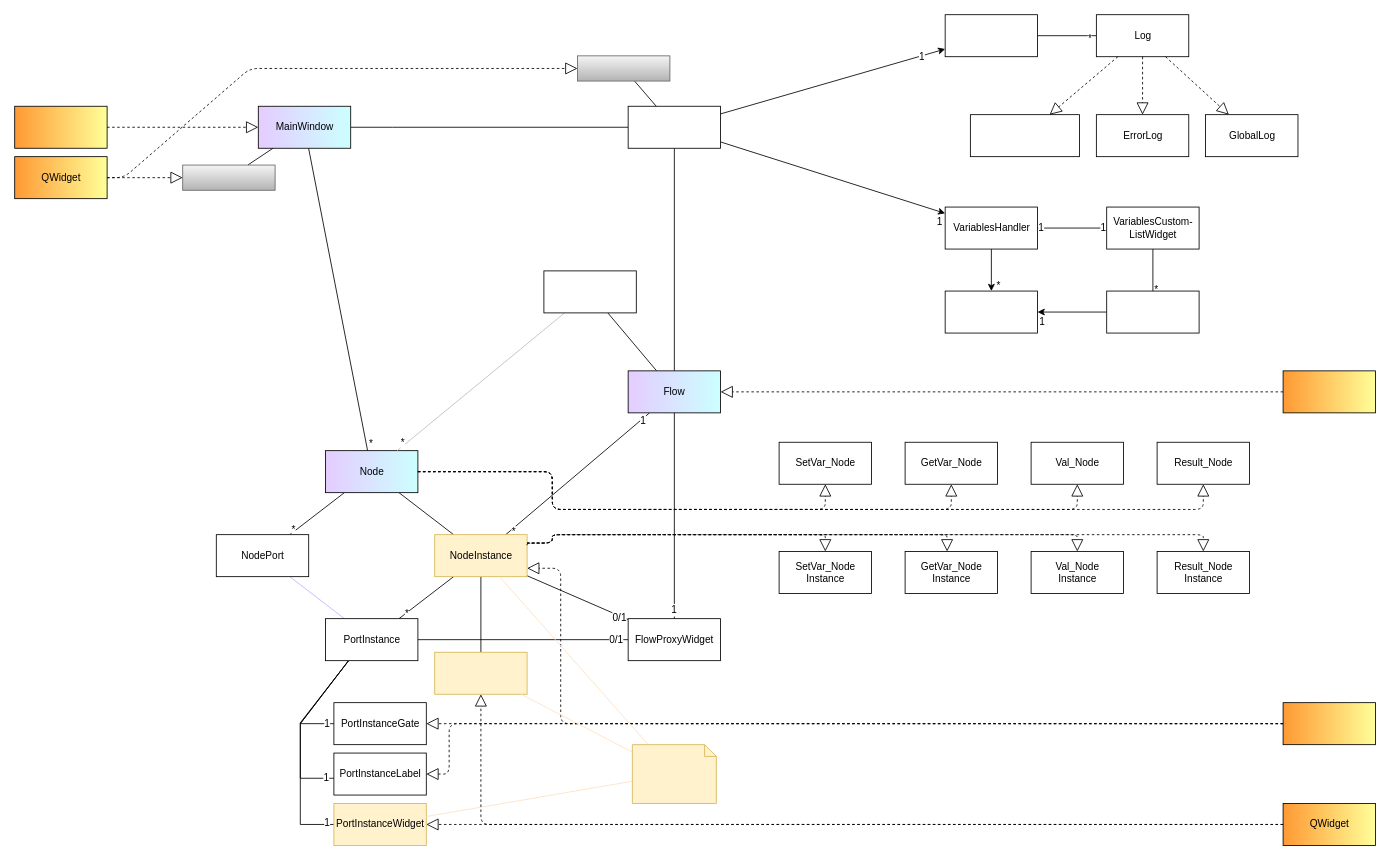
Some shapes in this 1390 by 860 pixel diagram are drawn without their labels. The shapes that lost their labels are listed below. From the top down, each one's box as (x1, y1, x2, y2) in pixels, then its label:
(944, 14, 1038, 57): Logger
(577, 55, 670, 81): W_UI_Script
(14, 105, 107, 148): QMainWindow
(627, 105, 721, 148): Script
(970, 114, 1080, 157): NodeInstanceLog
(182, 164, 275, 190): UI_MainWindow
(543, 270, 636, 313): NodeChoiceWidget
(944, 290, 1038, 333): Variable
(1106, 290, 1199, 333): VarsList_VarWidget
(1282, 370, 1376, 413): QGraphicsView
(434, 651, 527, 694): NodeInstance_ MainWidget
(1282, 702, 1376, 745): QGraphicsItem
(632, 744, 716, 803): These may get loaded dynamically from outside.
